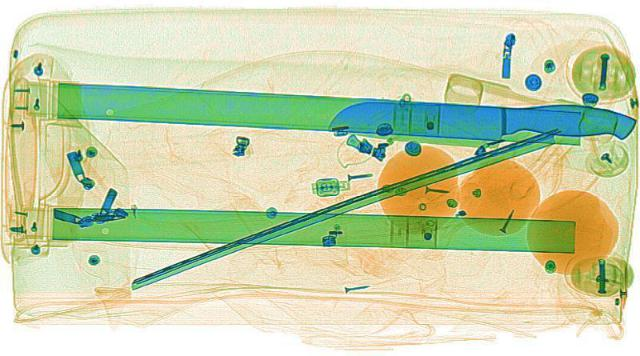Knife: (327, 95, 638, 145)
